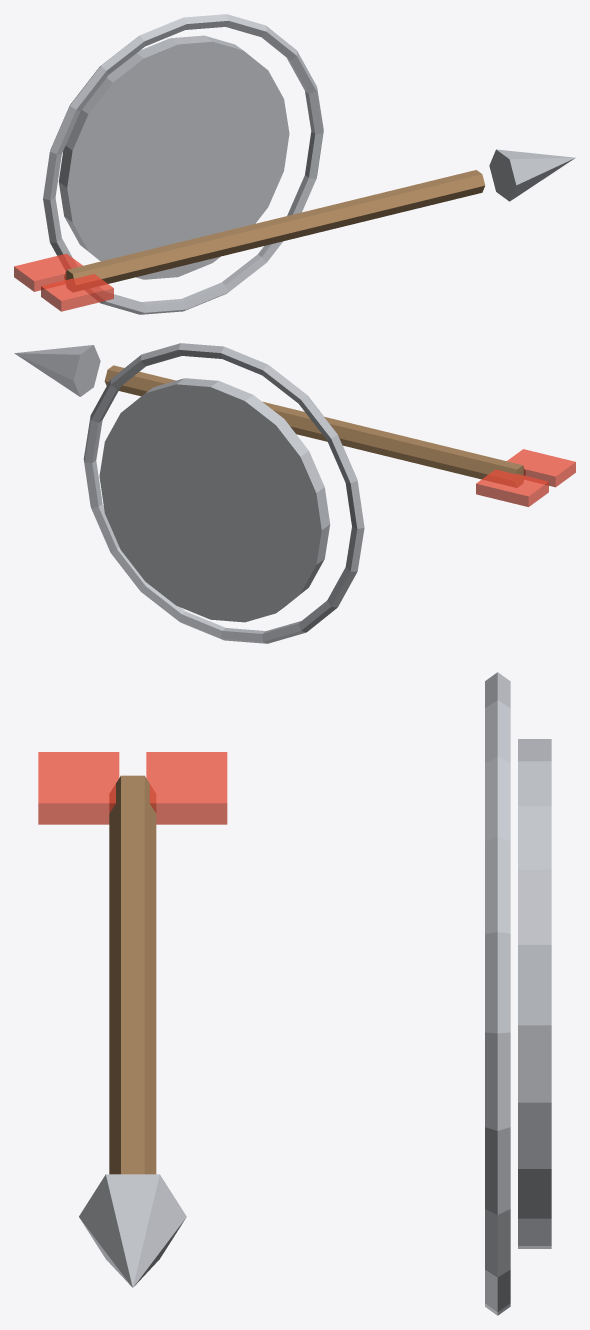
The model's file is 04_throwing_knife_projectile.glb.
The picture shows the model from 3 angles, top to bottom: view 1: azimuth 30°, elevation 25°; view 2: azimuth 150°, elevation 25°; view 3: azimuth 270°, elevation 25°; orthographic projection. The views are drawn at different scales.
Visible parts, largest first — view 1: base_disc, base_ring, shaft, tip, fletch_a, fletch_b; view 2: base_disc, base_ring, shaft, tip, fletch_b, fletch_a; view 3: shaft, base_disc, base_ring, tip, fletch_b, fletch_a.
Boxes of the visible parts, <box> form: base_disc: <box>58,35,289,279</box>; base_ring: <box>43,14,323,314</box>; shaft: <box>64,170,485,291</box>; tip: <box>489,149,575,201</box>; fletch_a: <box>41,274,113,311</box>; fletch_b: <box>14,253,82,291</box>; base_disc: <box>99,378,330,622</box>; base_ring: <box>83,343,364,643</box>; shaft: <box>104,365,525,487</box>; tip: <box>14,345,100,396</box>; fletch_b: <box>476,469,548,506</box>; fletch_a: <box>507,449,575,487</box>; shaft: <box>109,775,156,1174</box>; base_disc: <box>518,739,551,1248</box>; base_ring: <box>485,672,510,1315</box>; tip: <box>79,1174,186,1287</box>; fletch_b: <box>146,752,227,824</box>; fletch_a: <box>38,752,119,824</box>.
Size of the model in its own units: 1.84 by 0.96 by 0.76.
